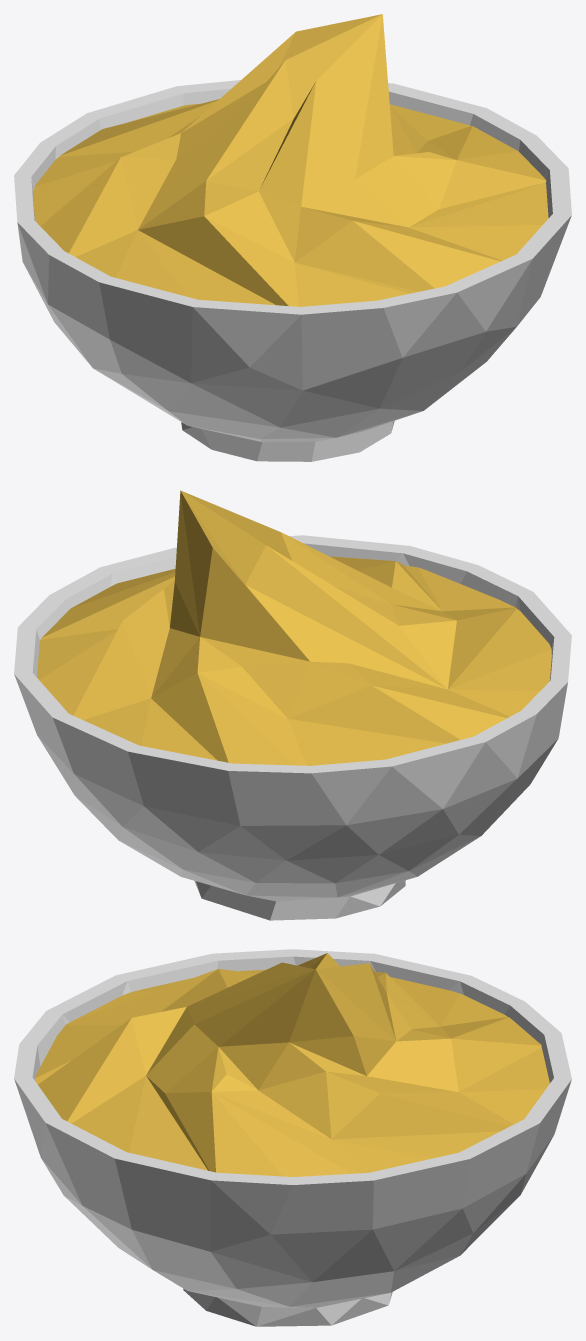
Rendered from Sauces.fbx.
3 renders of one model, top to bottom at view 1: azimuth 30°, elevation 25°; view 2: azimuth 150°, elevation 25°; view 3: azimuth 270°, elevation 25°, orthographic.
Parts seen in each view (by area): view 1: Sauce, SauceContainer; view 2: Sauce, SauceContainer; view 3: Sauce, SauceContainer.
Boxes of the visible parts, box(x1,y1,x2,y2) form: Sauce: box(33, 14, 548, 306); SauceContainer: box(14, 80, 571, 461); Sauce: box(37, 490, 551, 765); SauceContainer: box(14, 535, 571, 920); Sauce: box(35, 953, 549, 1176); SauceContainer: box(14, 949, 571, 1326).
Bounding box in the file's own units: 213 × 153 × 213.
